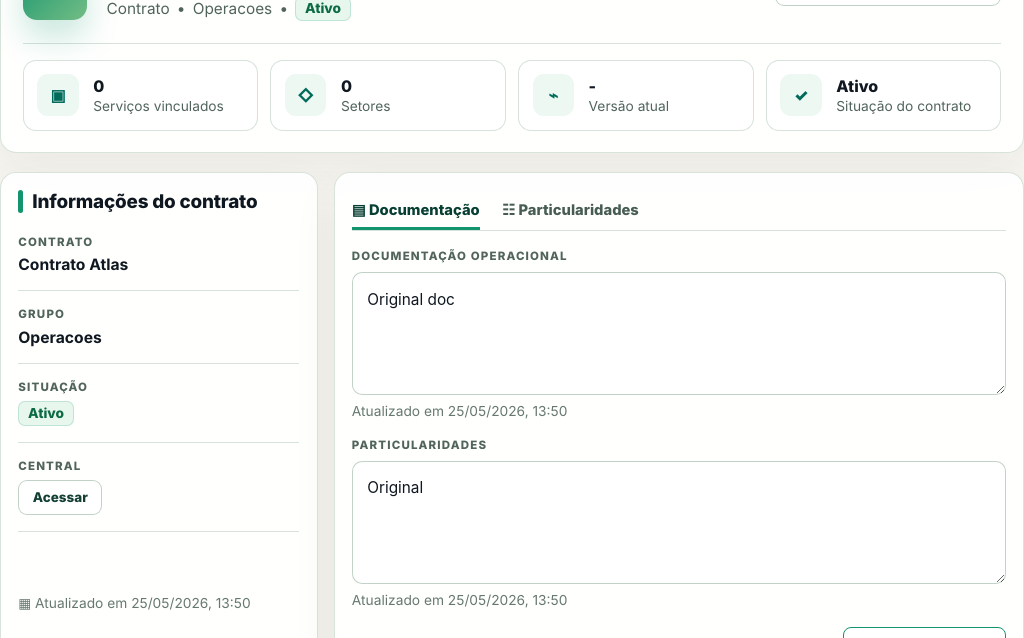
Test: DetalheContratoComponent › enables save action and updates helper text after editing documentation
This screenshot has width=1024, height=638.
Replace the text in the text box labelled "Particularidades" with "Original doc atualizado" at (679, 522), box [352, 461, 1006, 584]
(page scrolled)
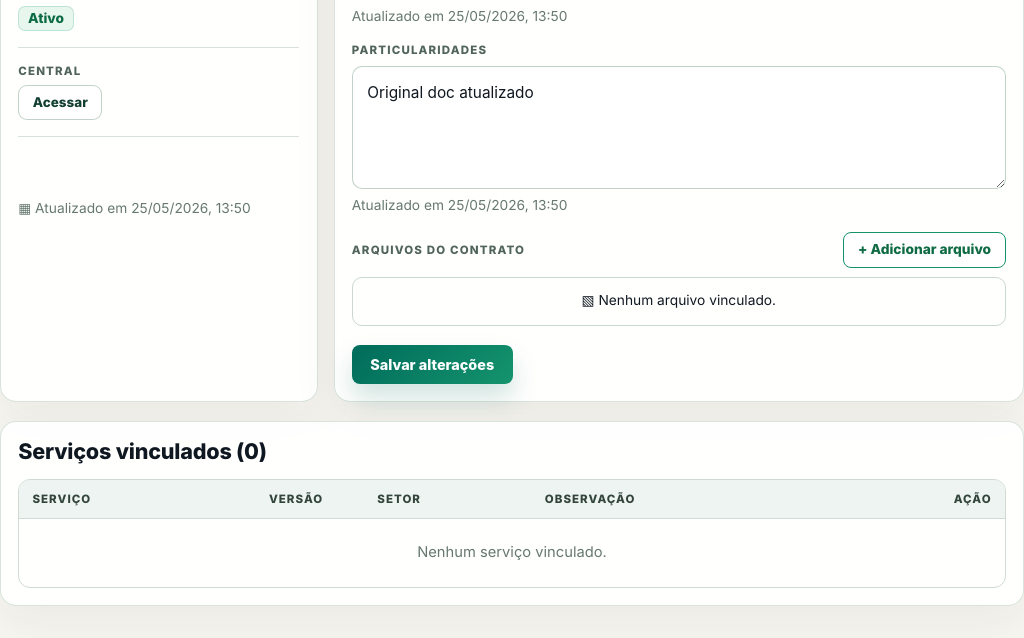
expect the button "Salvar alterações" is enabled: met, box [352, 345, 512, 384]
